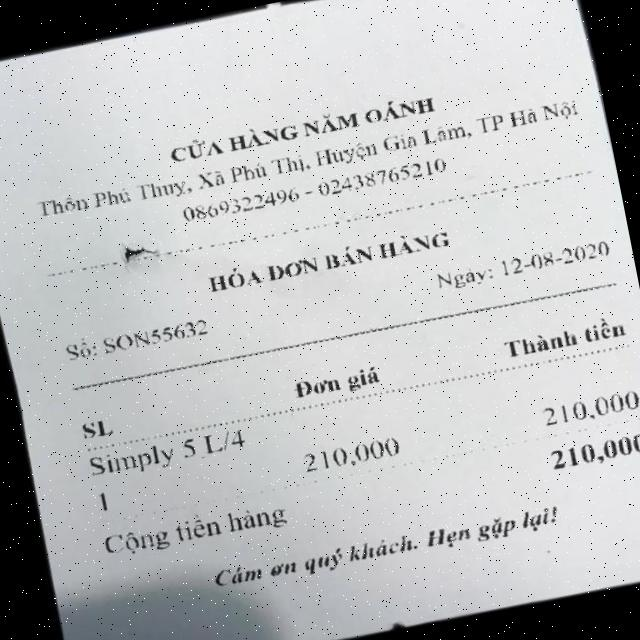Date: (499, 234, 614, 280)
Store_Name: (163, 86, 444, 168)
amount_number: (549, 430, 640, 479)
label_total: (100, 498, 292, 564)
